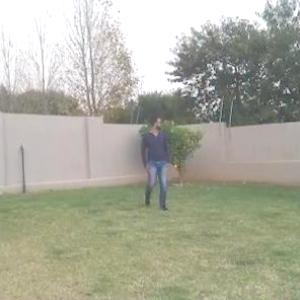follow: (145, 109, 171, 214)
